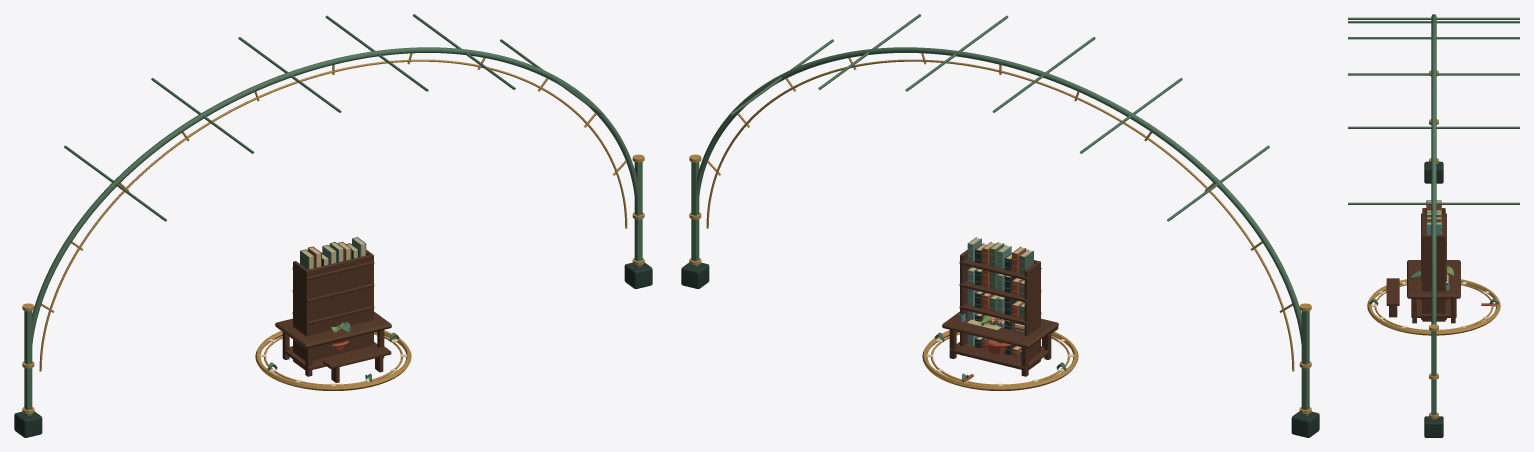
File: glasshouse-kit.raw.glb
3 views of the same model, side by side, from view 1: azimuth 30°, elevation 25°; view 2: azimuth 150°, elevation 25°; view 3: azimuth 270°, elevation 25° (orthographic). The views are drawn at different scales.
Parts seen in each view (by area): view 1: GreenhouseArch_Mesh, Bookshelf_Mesh, Workbench_Mesh, SealRing_Mesh; view 2: GreenhouseArch_Mesh, Bookshelf_Mesh, Workbench_Mesh, SealRing_Mesh; view 3: GreenhouseArch_Mesh, Workbench_Mesh, Bookshelf_Mesh, SealRing_Mesh.
Part boxes in pixels (<box>): GreenhouseArch_Mesh: <box>14,14,652,437</box>; Bookshelf_Mesh: <box>292,237,374,369</box>; Workbench_Mesh: <box>275,311,391,382</box>; SealRing_Mesh: <box>255,330,411,390</box>; GreenhouseArch_Mesh: <box>681,14,1319,437</box>; Bookshelf_Mesh: <box>959,237,1041,369</box>; Workbench_Mesh: <box>942,311,1058,376</box>; SealRing_Mesh: <box>922,330,1078,390</box>; GreenhouseArch_Mesh: <box>1348,14,1519,437</box>; Workbench_Mesh: <box>1386,260,1460,323</box>; Bookshelf_Mesh: <box>1421,200,1446,321</box>; SealRing_Mesh: <box>1367,279,1500,335</box>.
Size of the model in its own units: 28.85 by 13.18 by 8.
